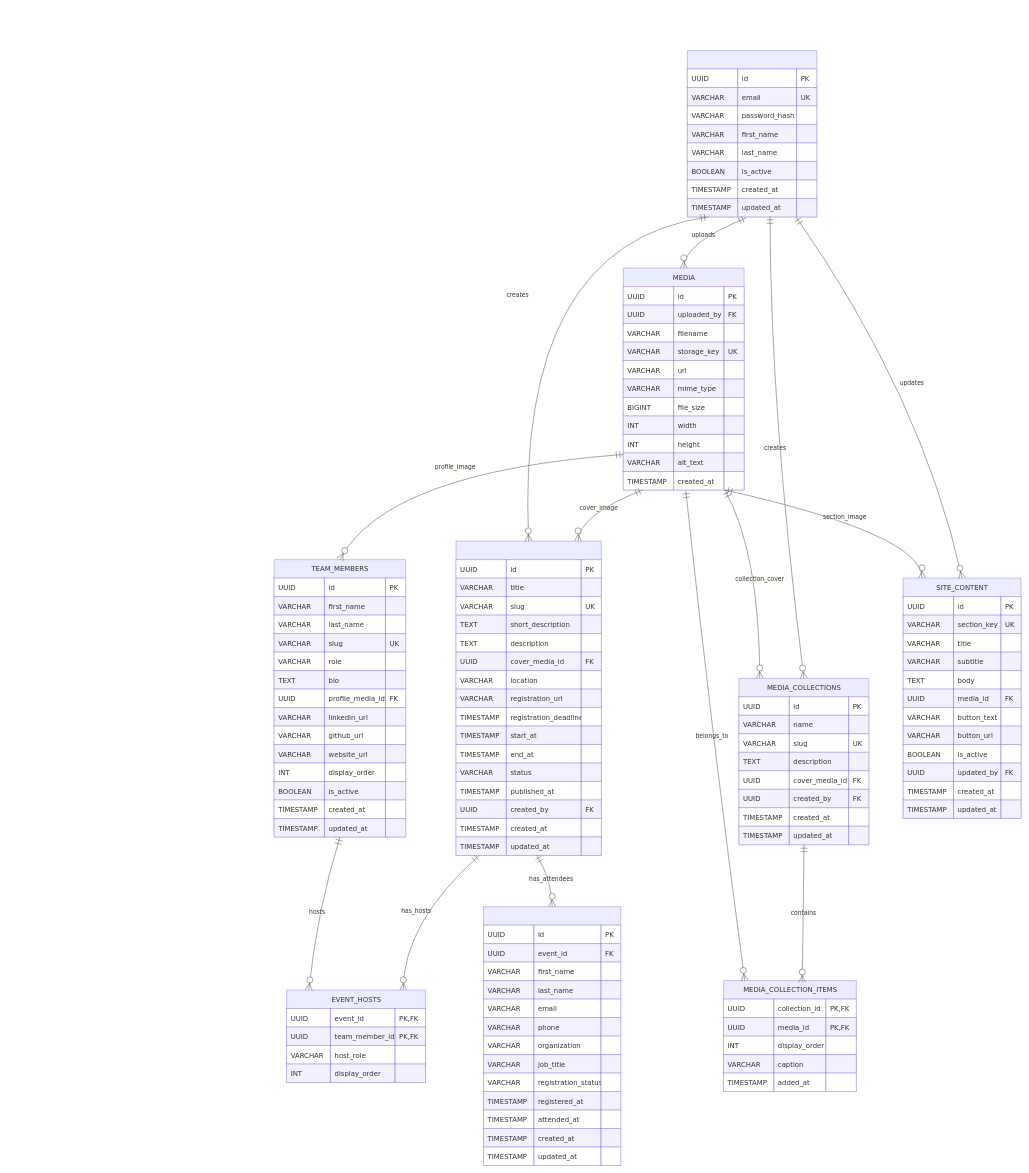
Some shapes in this 1029 by 1173 pixel diagram are drawn without their labels. Each missing label, with the box of its shape:
ADMINS: (687, 50, 817, 217)
EVENT_ATTENDEES: (483, 906, 621, 1166)
EVENTS: (456, 541, 601, 855)
